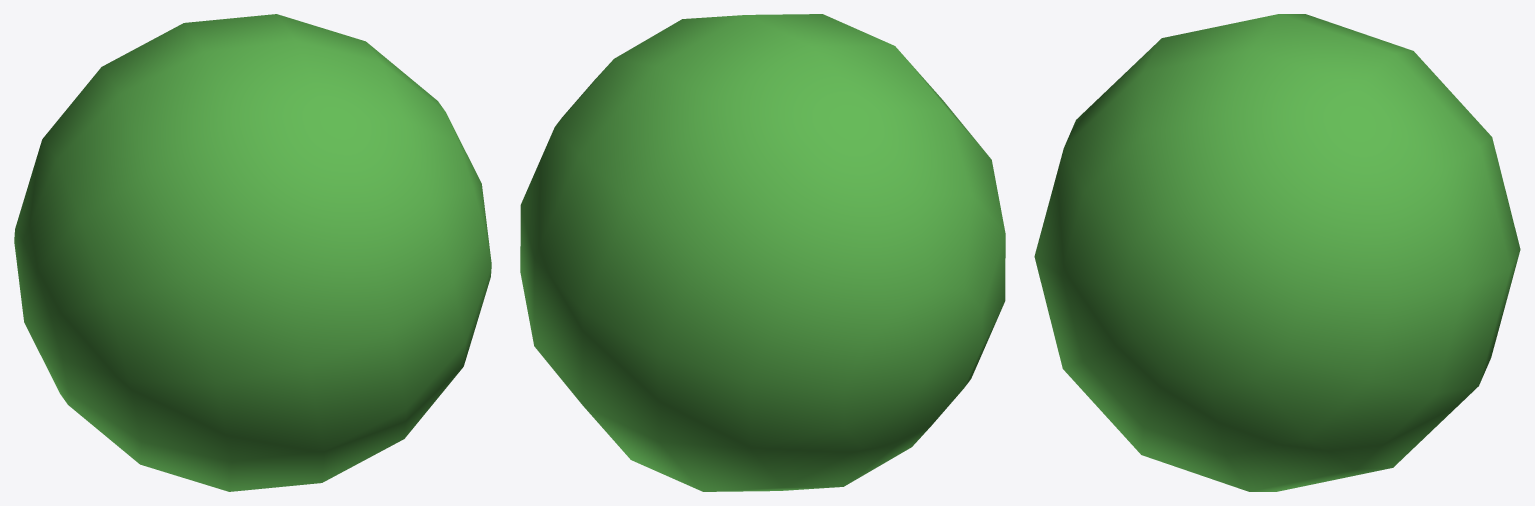
File: linfatico-posterior-tibial-node-r.glb
3 views of the same model, side by side, from view 1: azimuth 30°, elevation 25°; view 2: azimuth 150°, elevation 25°; view 3: azimuth 270°, elevation 25° (orthographic). The views are drawn at different scales.
Visible parts, largest first — view 1: (Posterior tibial node).r; view 2: (Posterior tibial node).r; view 3: (Posterior tibial node).r.
Boxes of the visible parts, box(x1,y1,x2,y2) form: (Posterior tibial node).r: box(14, 14, 491, 491); (Posterior tibial node).r: box(520, 14, 1005, 491); (Posterior tibial node).r: box(1034, 14, 1520, 491).
Bounding box in the file's own units: 0.0026 × 0.00256 × 0.00259.
